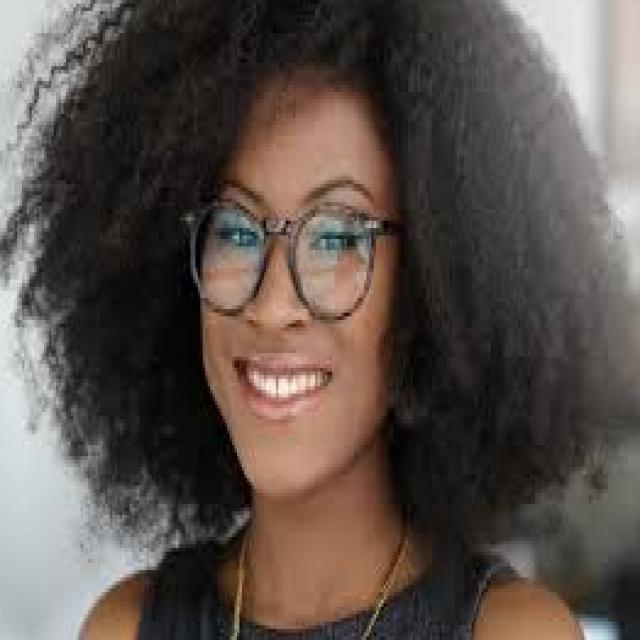Glasses: (181, 189, 381, 322)
